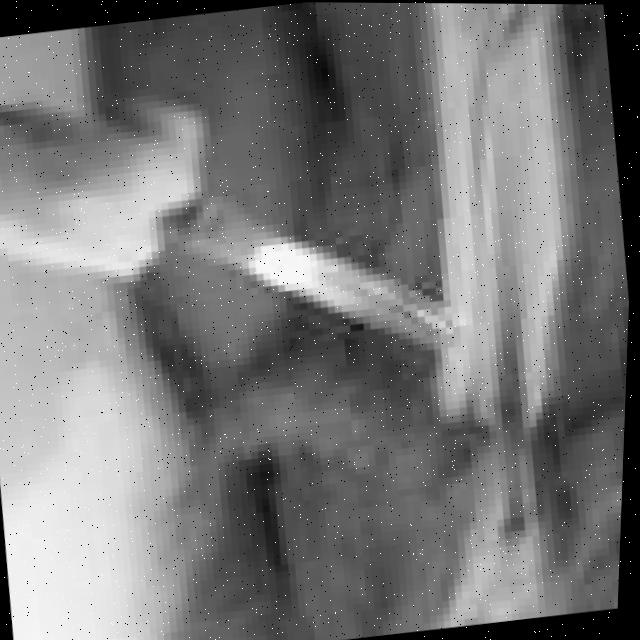knife: (155, 159, 466, 384)
